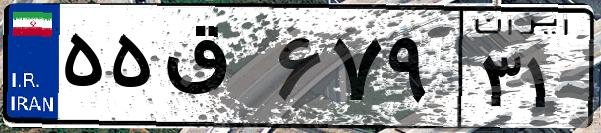1: (525, 38, 570, 115)
3: (475, 38, 525, 113)
5: (57, 26, 110, 100), (110, 28, 158, 98)
6: (270, 28, 330, 110)
7: (330, 28, 385, 110)
9: (385, 28, 445, 110)
ق: (158, 20, 270, 120)
